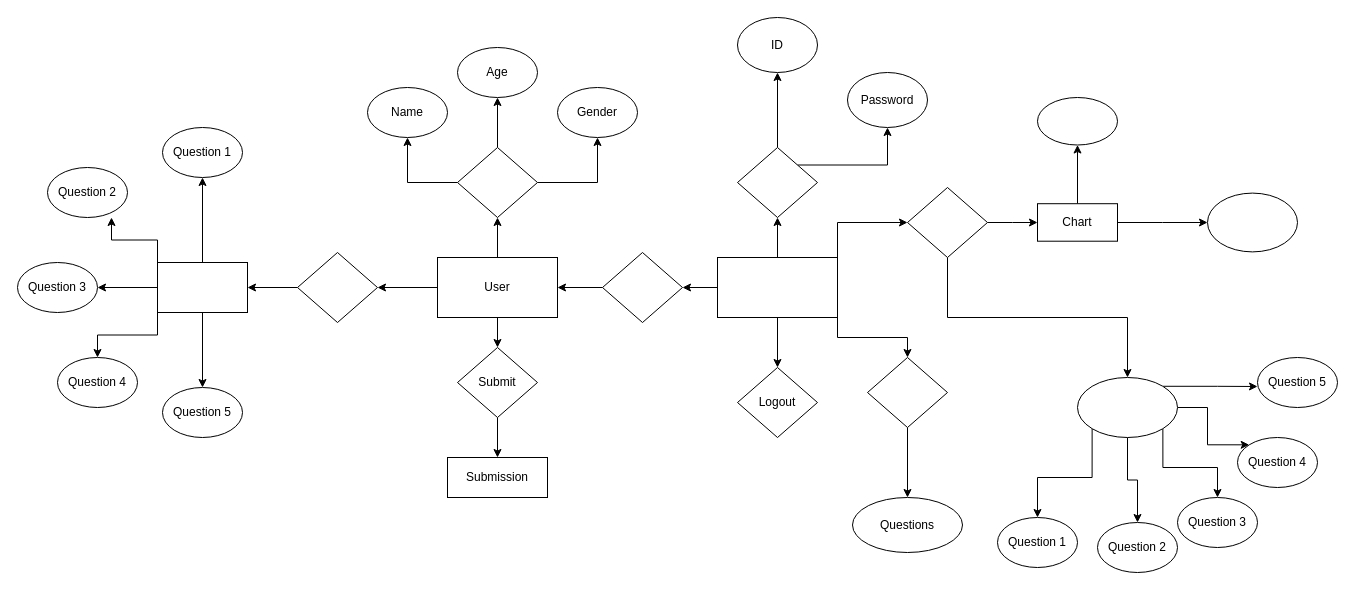
Some shapes in this 1355 by 590 pixel diagram are drawn without their labels. The shapes that lost their labels are listed below. From the top down, each one's centre as x and y in pixels, then its label:
At pixel 1077 120: "datetime".
At pixel 497 182: "Select".
At pixel 777 182: "Login".
At pixel 947 222: "Analyze".
At pixel 1252 222: "Number of Participants".
At pixel 202 287: "Quiz".
At pixel 337 287: "Perform".
At pixel 642 287: "Survey".
At pixel 777 287: "Administrator".
At pixel 907 392: "Modify".
At pixel 1127 407: "Answers".
